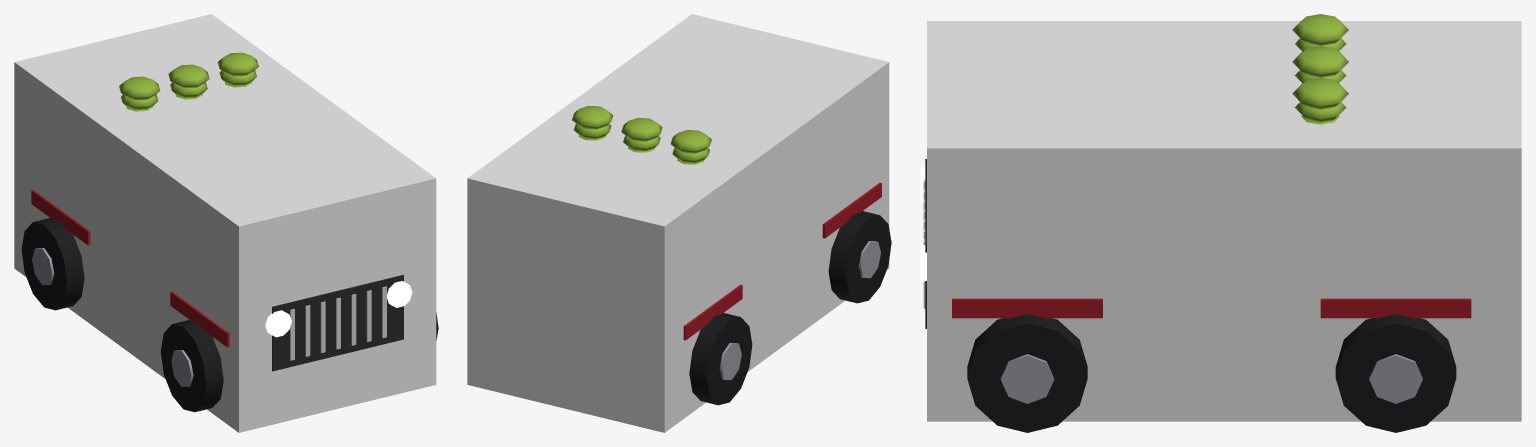
The model's file is yipao_rojo.glb.
The picture shows the model from 3 angles, left to right: view 1: azimuth 30°, elevation 25°; view 2: azimuth 150°, elevation 25°; view 3: azimuth 270°, elevation 25°; orthographic projection. The views are drawn at different scales.
Visible parts, largest first — view 1: COL_0, yipao_rojo_Malla; view 2: COL_0, yipao_rojo_Malla; view 3: COL_0, yipao_rojo_Malla.
Part boxes in pixels (box(x1,y1,x2,y2)): COL_0: box(14, 14, 436, 432); yipao_rojo_Malla: box(21, 52, 438, 412); COL_0: box(467, 14, 889, 432); yipao_rojo_Malla: box(572, 105, 891, 405); COL_0: box(927, 21, 1521, 421); yipao_rojo_Malla: box(920, 14, 1471, 432).
Bounding box in the file's own units: 2.16 × 2.02 × 3.59.
